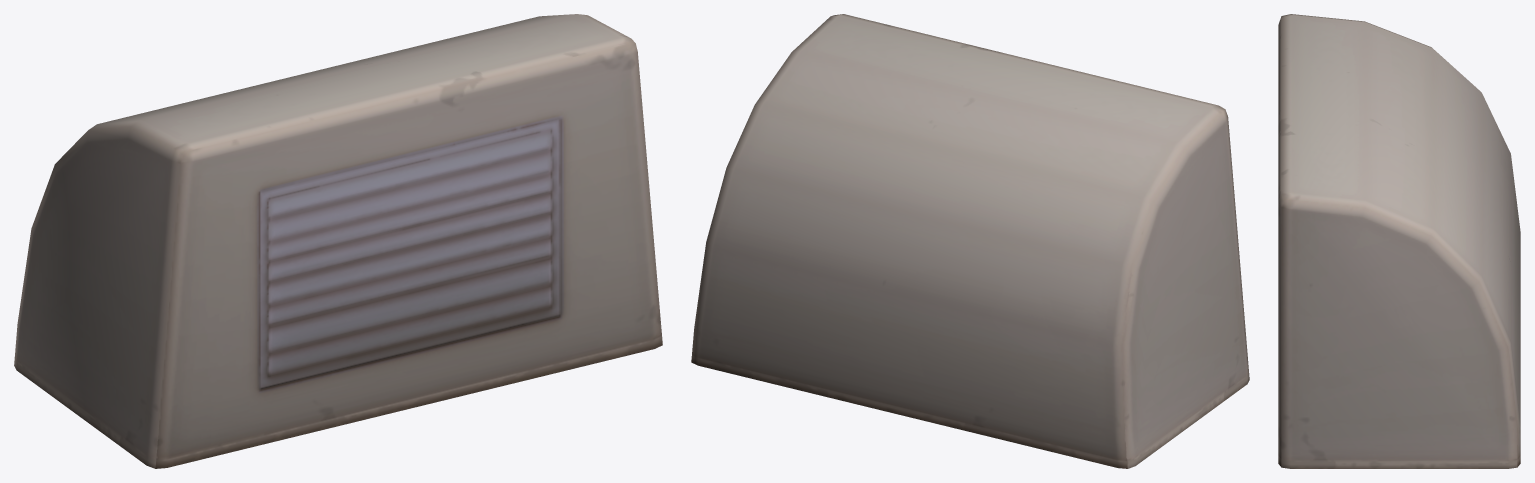
File: RoofVent02.FBX
3 renders of one model, left to right at view 1: azimuth 30°, elevation 25°; view 2: azimuth 150°, elevation 25°; view 3: azimuth 270°, elevation 25°, orthographic. The views are drawn at different scales.
Parts seen in each view (by area): view 1: RoofVent02; view 2: RoofVent02; view 3: RoofVent02.
Boxes of the visible parts, x1=… form: RoofVent02: x1=14, y1=14, x2=662, y2=468; RoofVent02: x1=691, y1=14, x2=1249, y2=468; RoofVent02: x1=1278, y1=14, x2=1520, y2=468.
Size of what is drawn, in the model's own units: 1.96 by 1.14 by 0.9609.
